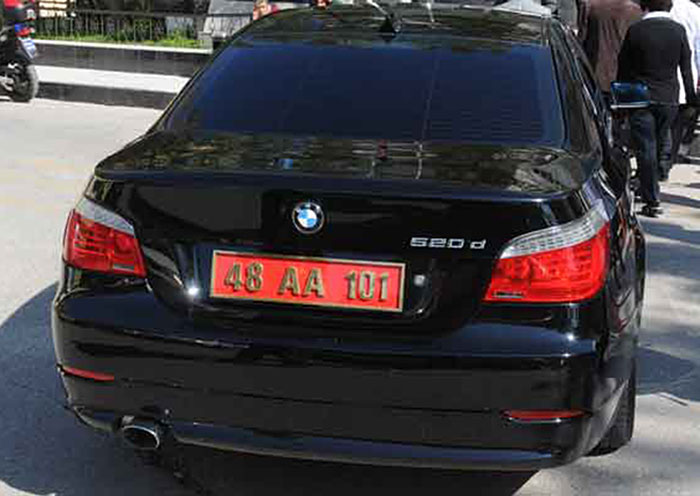plate: (194, 252, 419, 310)
